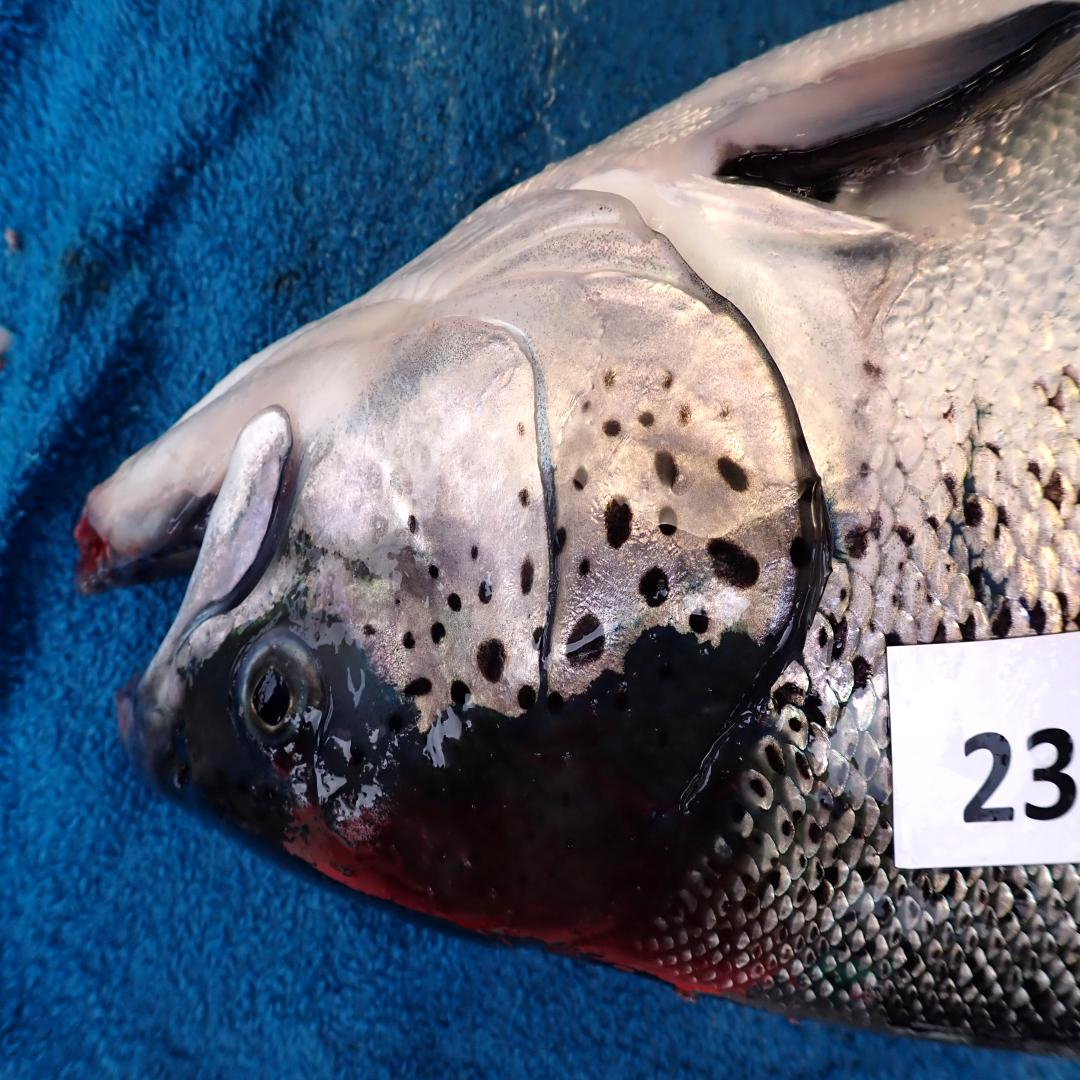roi: (288, 177, 807, 721)
